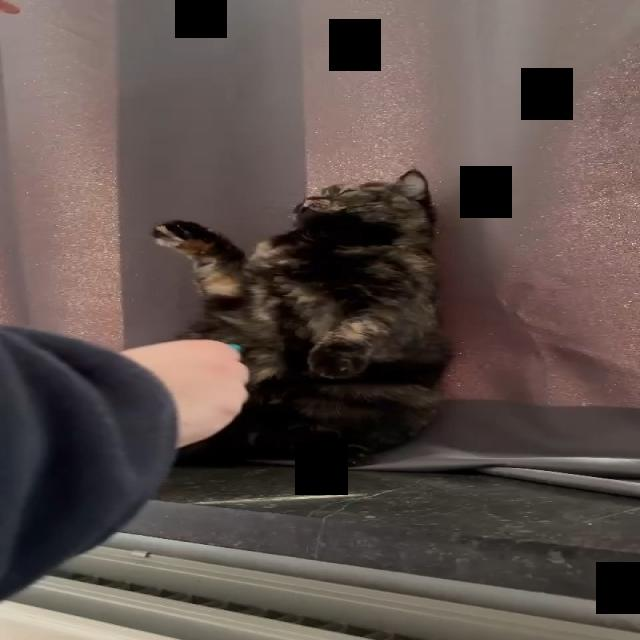authorized: (149, 167, 455, 468)
